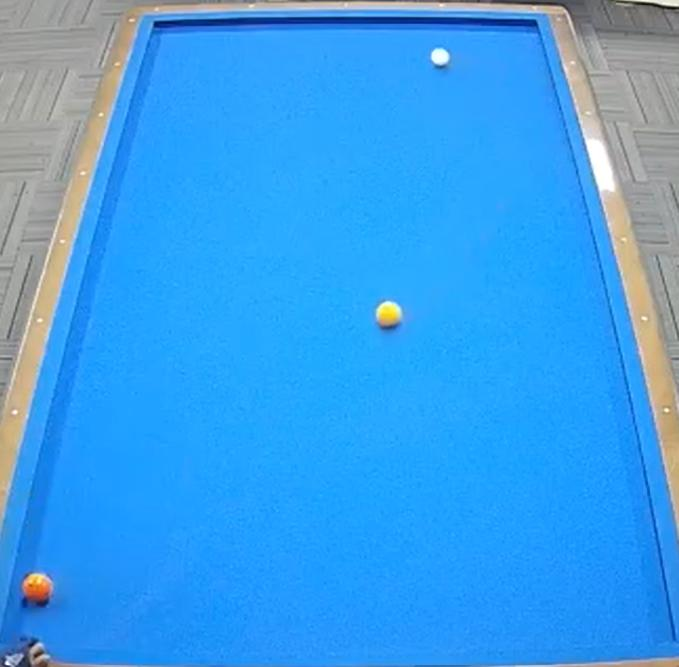orange ball: (19, 569, 57, 611)
white ball: (425, 43, 456, 75)
yellow ball: (368, 295, 406, 337)
